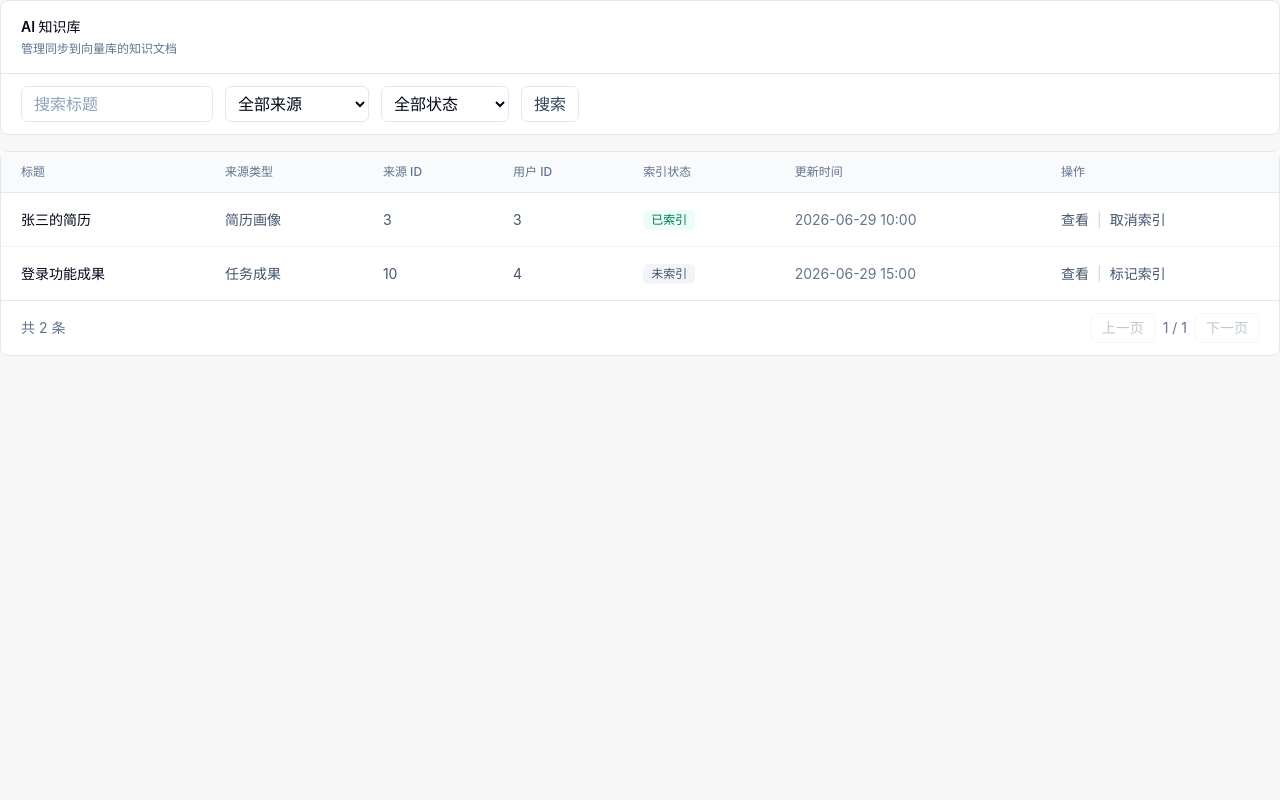
Test: KnowledgeView › closes detail panel
What coordinates should you click on to do the following:
click the button "查看" in the row of "简历画像"
I would click on:
 (1075, 220)
Its box is [1061,210,1089,230].
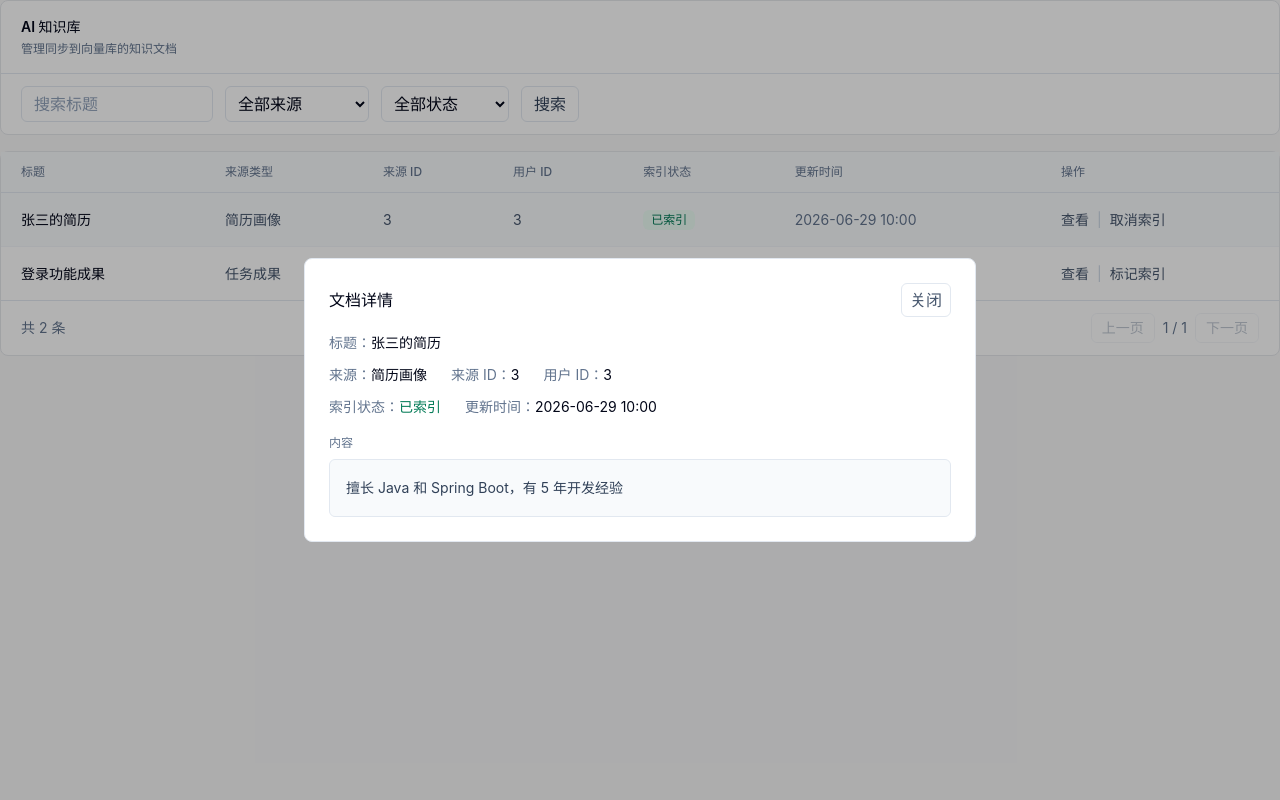
Now the text "文档详情" is shown, box [329,288,393,312]
What coordinates should you click on to do the following:
click the button "关闭"
I would click on:
 (926, 300)
Its box is [901,283,951,317].
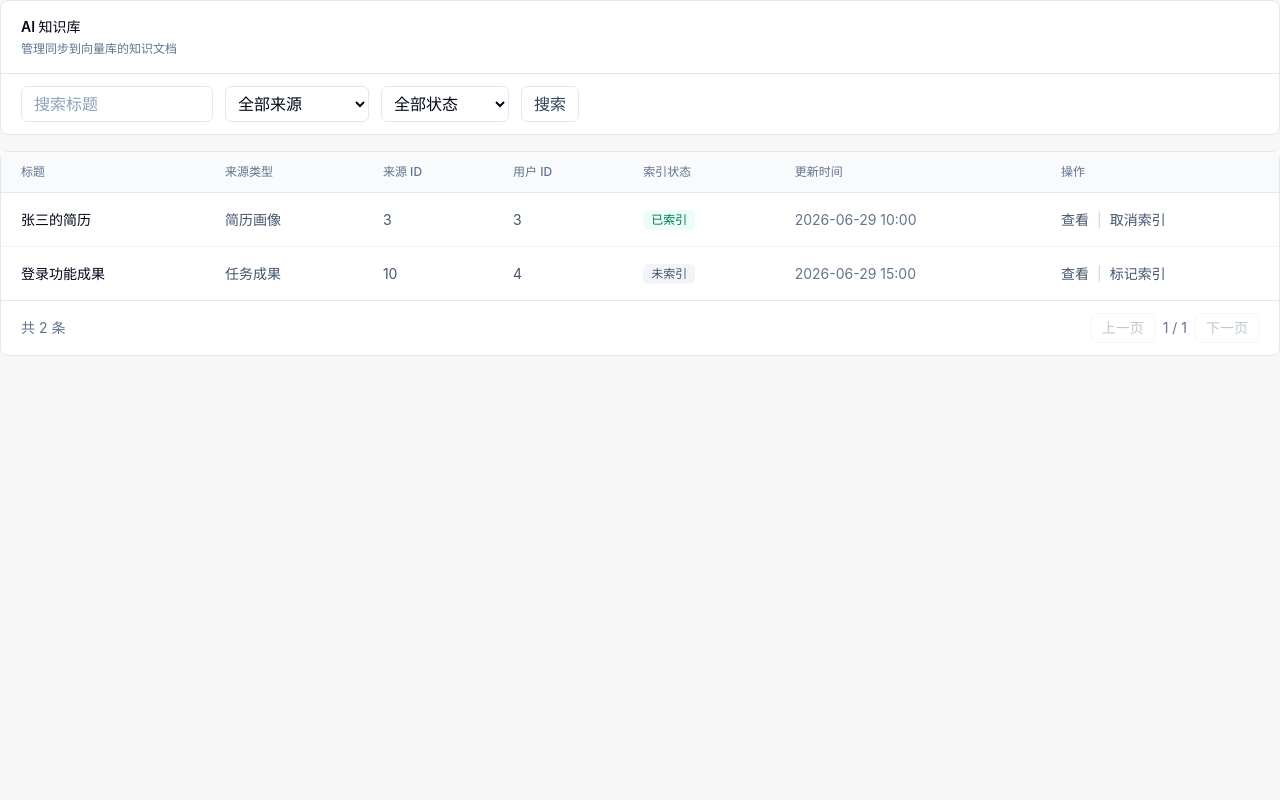
Now the text "文档详情" is gone
